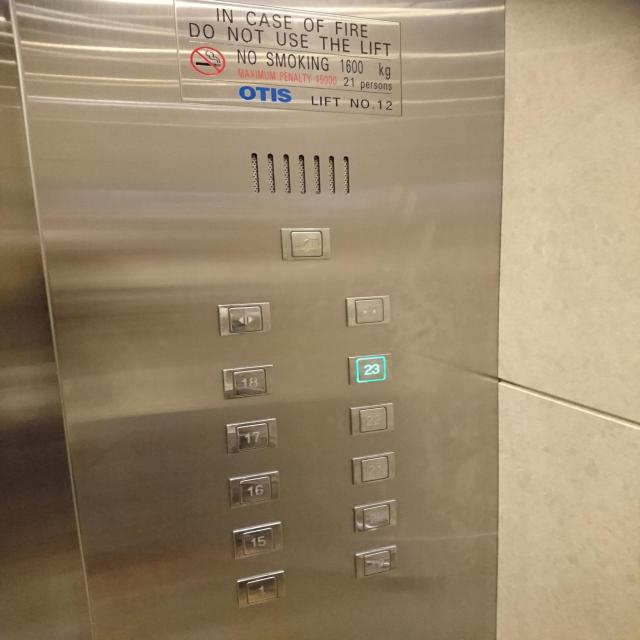1: (235, 568, 286, 609)
15: (230, 521, 285, 559)
16: (226, 468, 284, 508)
17: (220, 416, 282, 456)
18: (221, 363, 279, 399)
19: (352, 543, 398, 581)
20: (352, 497, 398, 535)
21: (351, 451, 398, 486)
22: (347, 402, 397, 436)
23: (345, 352, 396, 386)
alarm: (278, 226, 333, 262)
close: (343, 294, 393, 328)
open: (215, 300, 274, 338)
